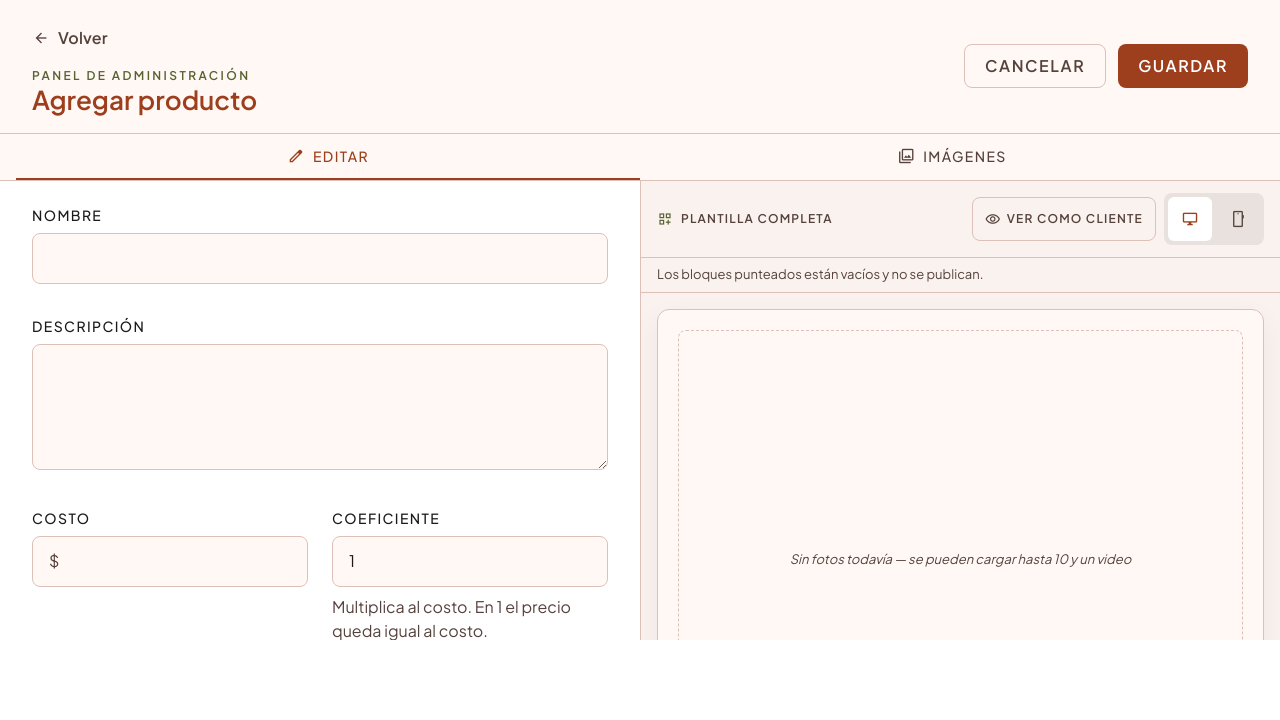
Test: AdminProductoForm — vista previa en vivo › refleja el precio calculado en la vista previa
Type "48900" into the field labelled "Costo".
click(175, 561); type("48900")  # box [59,537,291,586]
(page scrolled)
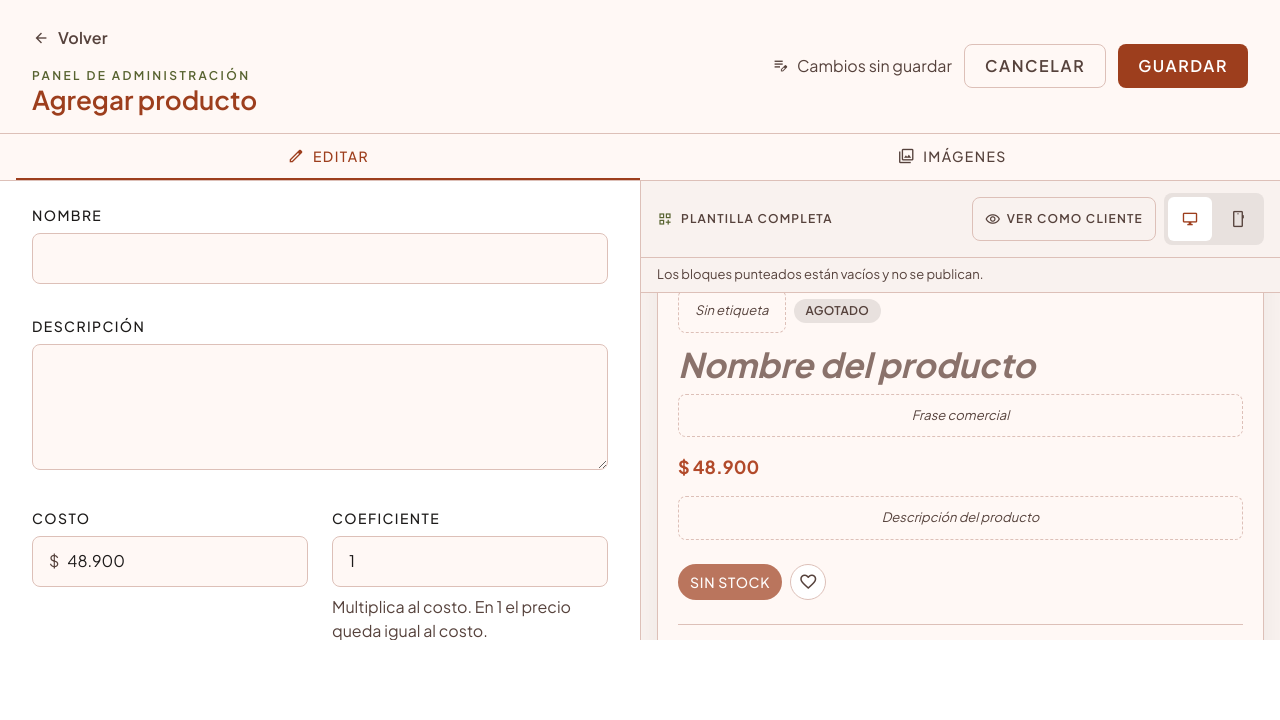
expect the text "$ 48.900" is shown: met, box [678,455,759,478]
